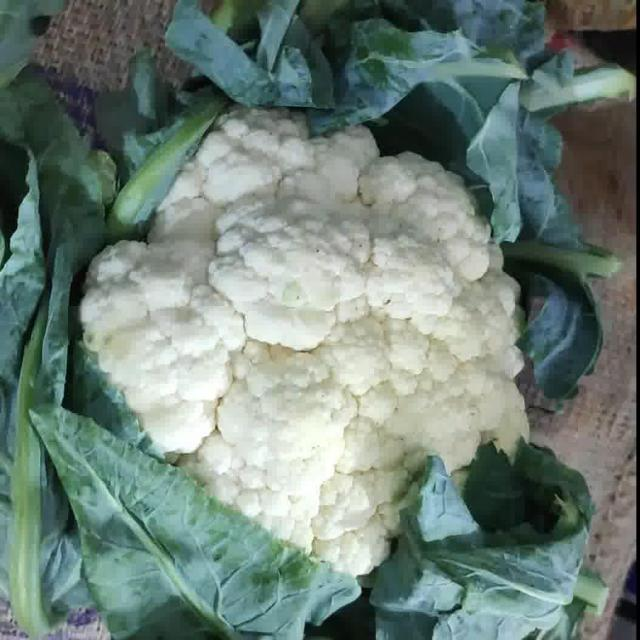Cauliflower: (80, 109, 528, 577)
